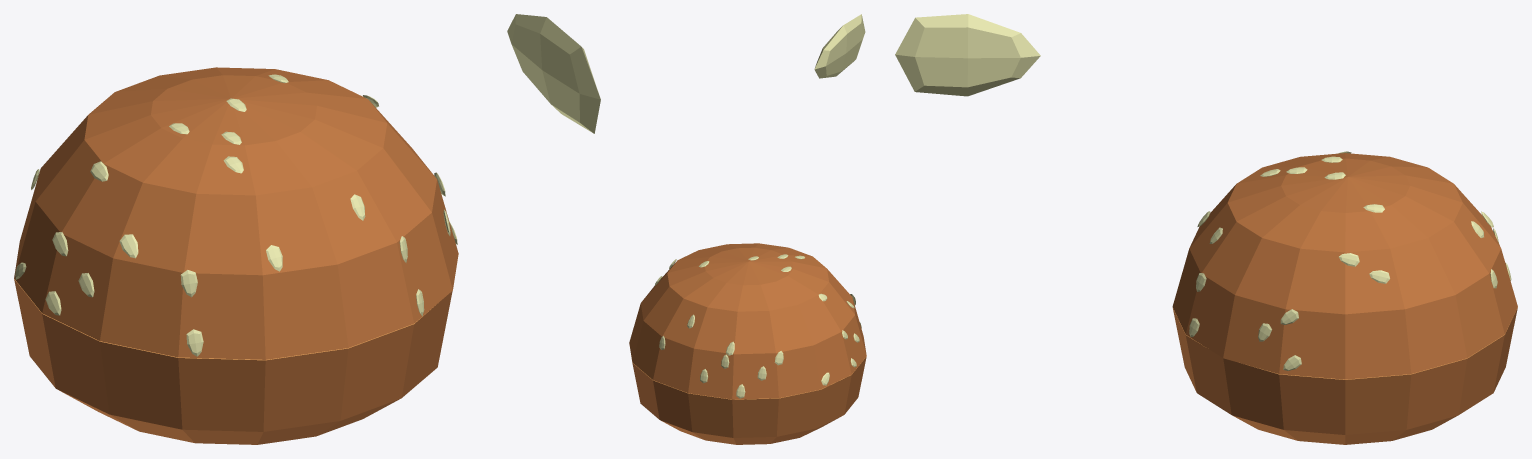
The model's file is DONT TOUCH BUN.fbx.
3 views of the same model, side by side, from view 1: azimuth 30°, elevation 25°; view 2: azimuth 150°, elevation 25°; view 3: azimuth 270°, elevation 25° (orthographic). The views are drawn at different scales.
Parts seen in each view (by area): view 1: Sphere.001, LowerBun, Sesam; view 2: Sphere.001, LowerBun, Sesam; view 3: Sphere.001, LowerBun, Sesam.
Part boxes in pixels (left/top/right/bottom): Sphere.001: left=14, top=67, right=458, bottom=359; LowerBun: left=14, top=278, right=452, bottom=444; Sesam: left=507, top=14, right=600, bottom=133; Sphere.001: left=629, top=243, right=866, bottom=399; LowerBun: left=632, top=356, right=866, bottom=444; Sesam: left=814, top=14, right=865, bottom=78; Sphere.001: left=1172, top=153, right=1517, bottom=379; LowerBun: left=1172, top=307, right=1517, bottom=444; Sesam: left=895, top=14, right=1040, bottom=96.
Size of the model in its own units: 199 by 257 by 358.
